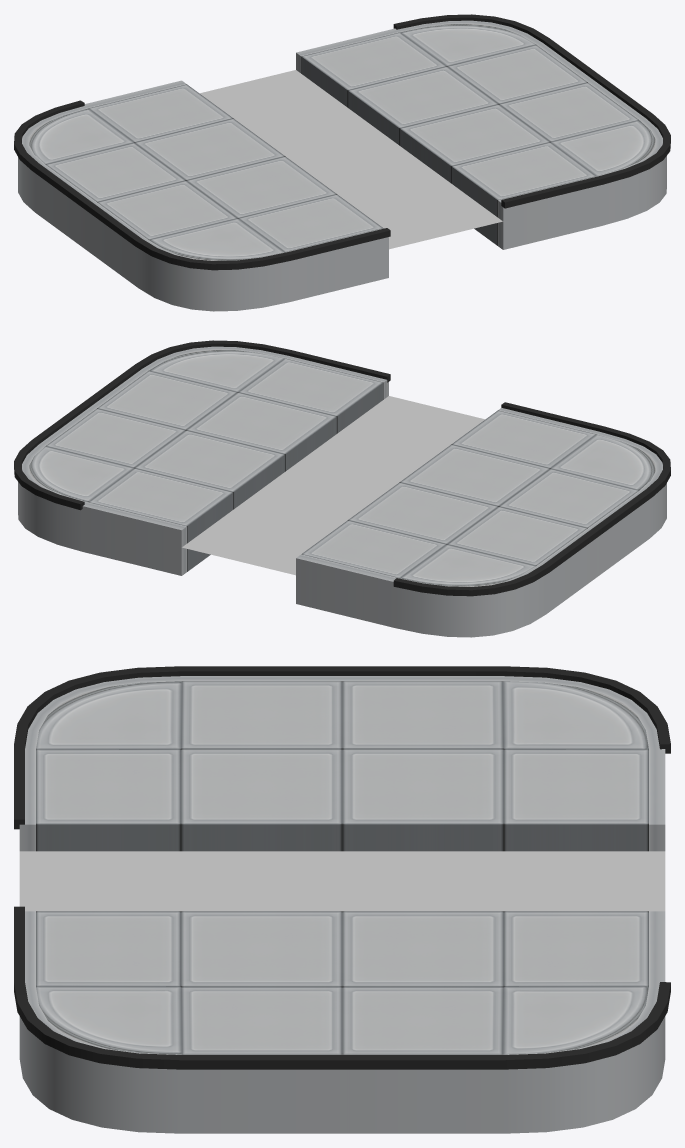
File: mesh_1002_zc_ground06.fbx
The picture shows the model from 3 angles, top to bottom: view 1: azimuth 30°, elevation 25°; view 2: azimuth 150°, elevation 25°; view 3: azimuth 270°, elevation 25°; orthographic projection. The views are drawn at different scales.
Parts seen in each view (by area): view 1: mesh_1002_zc_ground06, mesh_1002_zc_ground06b; view 2: mesh_1002_zc_ground06, mesh_1002_zc_ground06b; view 3: mesh_1002_zc_ground06, mesh_1002_zc_ground06b.
Part boxes in pixels (<box>): mesh_1002_zc_ground06: <box>14,14,670,311</box>; mesh_1002_zc_ground06b: <box>200,70,502,249</box>; mesh_1002_zc_ground06: <box>14,340,670,637</box>; mesh_1002_zc_ground06b: <box>182,396,484,575</box>; mesh_1002_zc_ground06: <box>14,666,670,1133</box>; mesh_1002_zc_ground06b: <box>19,851,665,911</box>.
Size of the model in its own units: 3215 by 290 by 2266.
